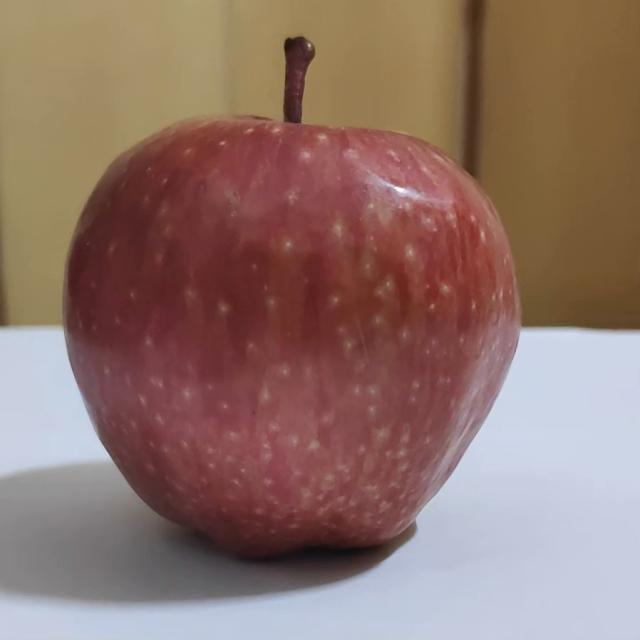apple: (59, 35, 526, 567)
